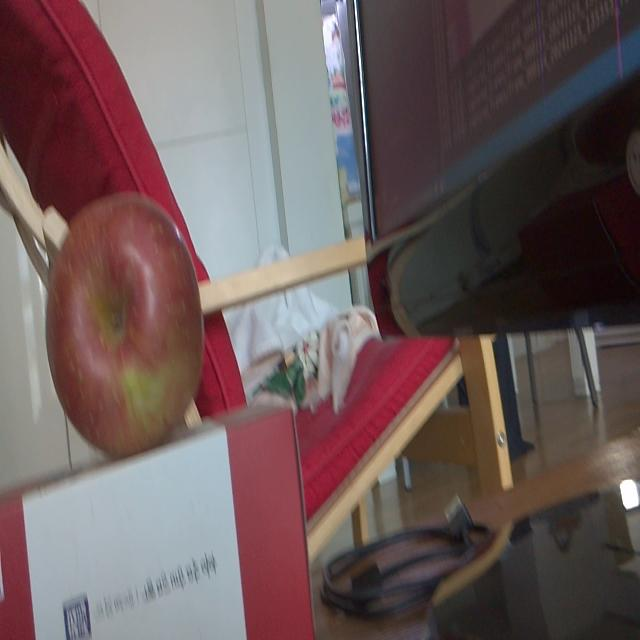apple: (46, 192, 205, 456)
